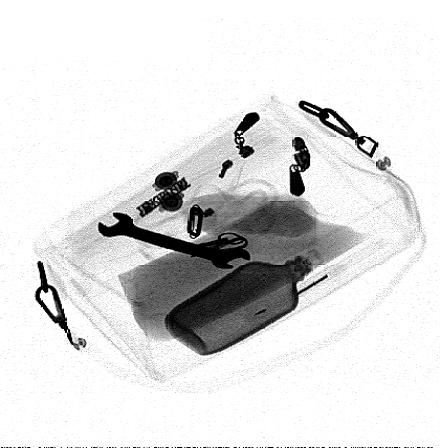Wrench: (97, 211, 252, 271)
